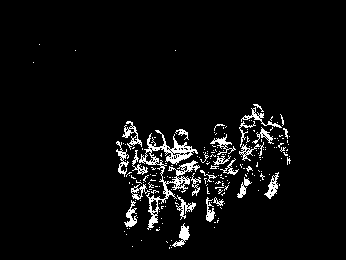person: (169, 128, 201, 247), (201, 124, 238, 223), (116, 119, 145, 230), (140, 129, 170, 232), (263, 112, 292, 200), (241, 100, 264, 200)
